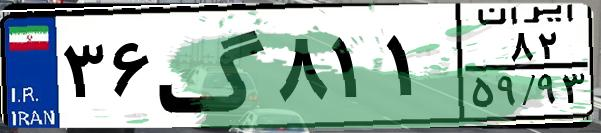1: (385, 28, 445, 110), (330, 28, 385, 110)
2: (537, 27, 568, 80)
3: (57, 26, 110, 100), (560, 70, 590, 125)
5: (470, 70, 495, 125)
6: (110, 28, 156, 98)
8: (270, 28, 330, 110), (508, 27, 537, 80)
9: (495, 70, 520, 125), (535, 70, 560, 125)
گ: (156, 12, 270, 120)
